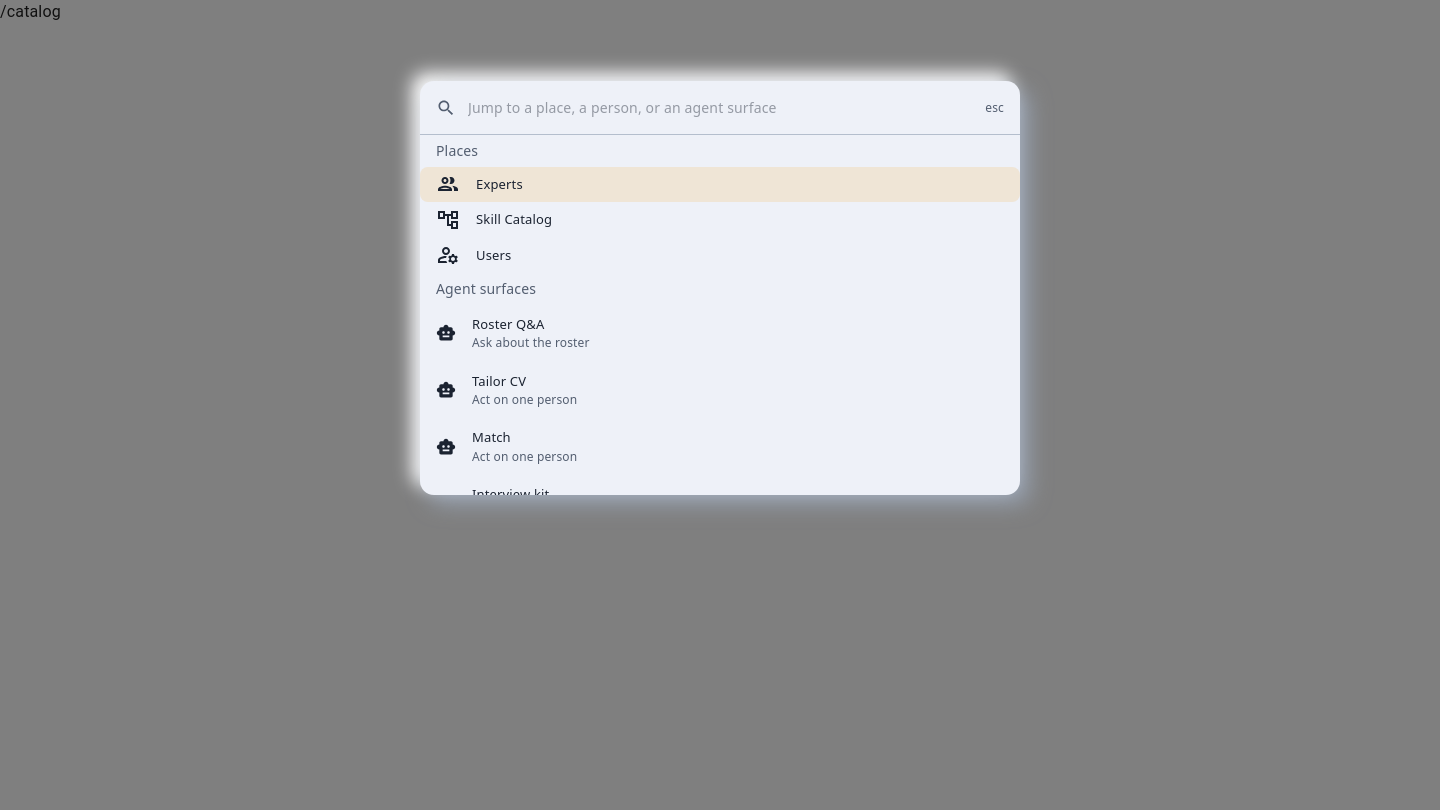
Test: what it offers › says so plainly when nothing matches
In the dropdown labelled "Jump to a place, a person, or an agent surface": (721, 108) [468,93,973,122], type "zzzz"
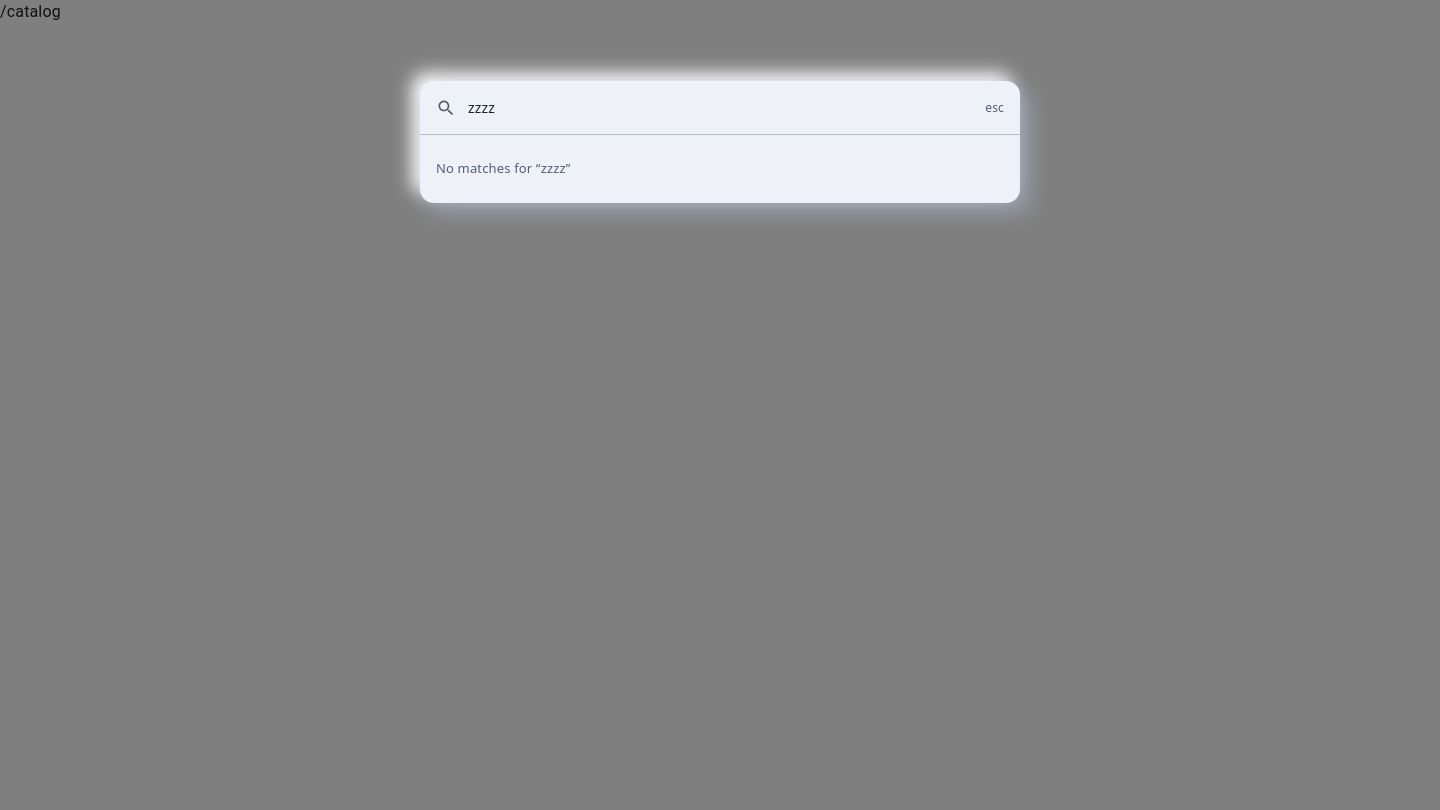
Expected: the text "No matches for “zzzz”" is shown, [436,159,570,177]
